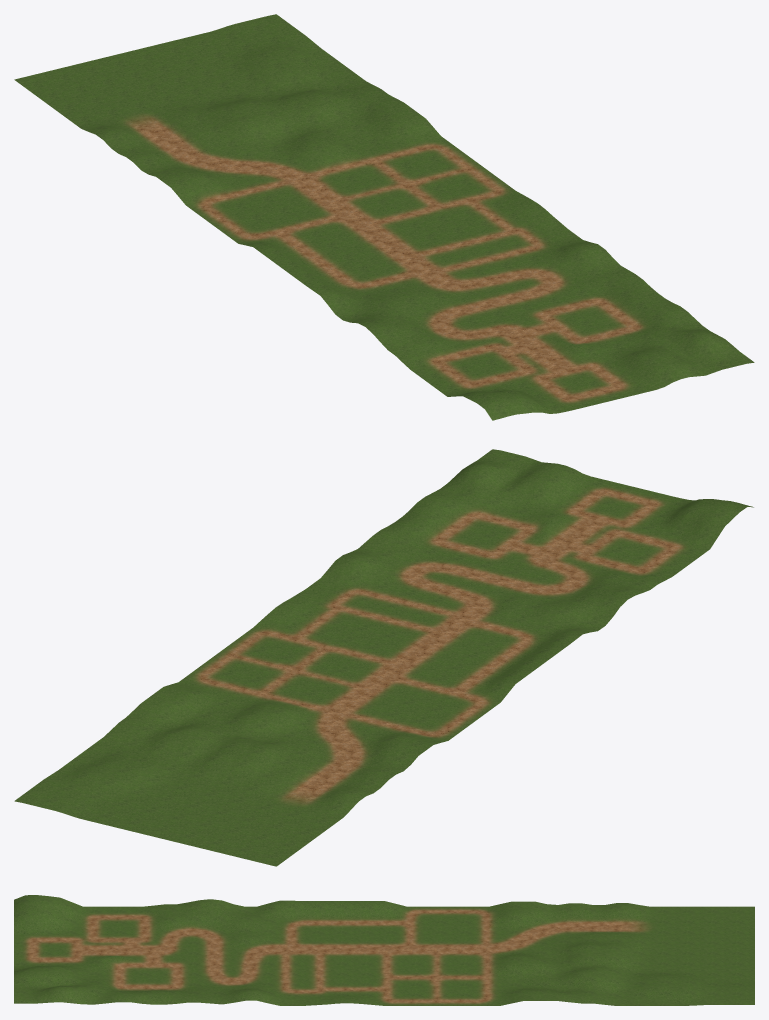
File: ground2.fbx
3 views of the same model, one above another, from view 1: azimuth 30°, elevation 25°; view 2: azimuth 150°, elevation 25°; view 3: azimuth 270°, elevation 25° (orthographic). The views are drawn at different scales.
Parts seen in each view (by area): view 1: ground; view 2: ground; view 3: ground.
Part boxes in pixels (<box>): ground: <box>14,14,754,420</box>; ground: <box>14,449,753,866</box>; ground: <box>14,895,754,1005</box>.
Size of the model in its own units: 20.31 by 1.19 by 64.11.
1 material, 1 textured.
